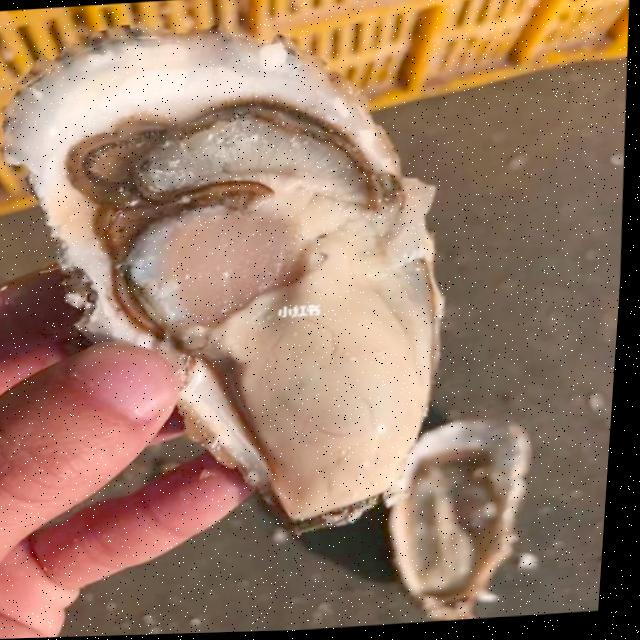Oyster-Open: (0, 0, 479, 559), (375, 407, 544, 624)
